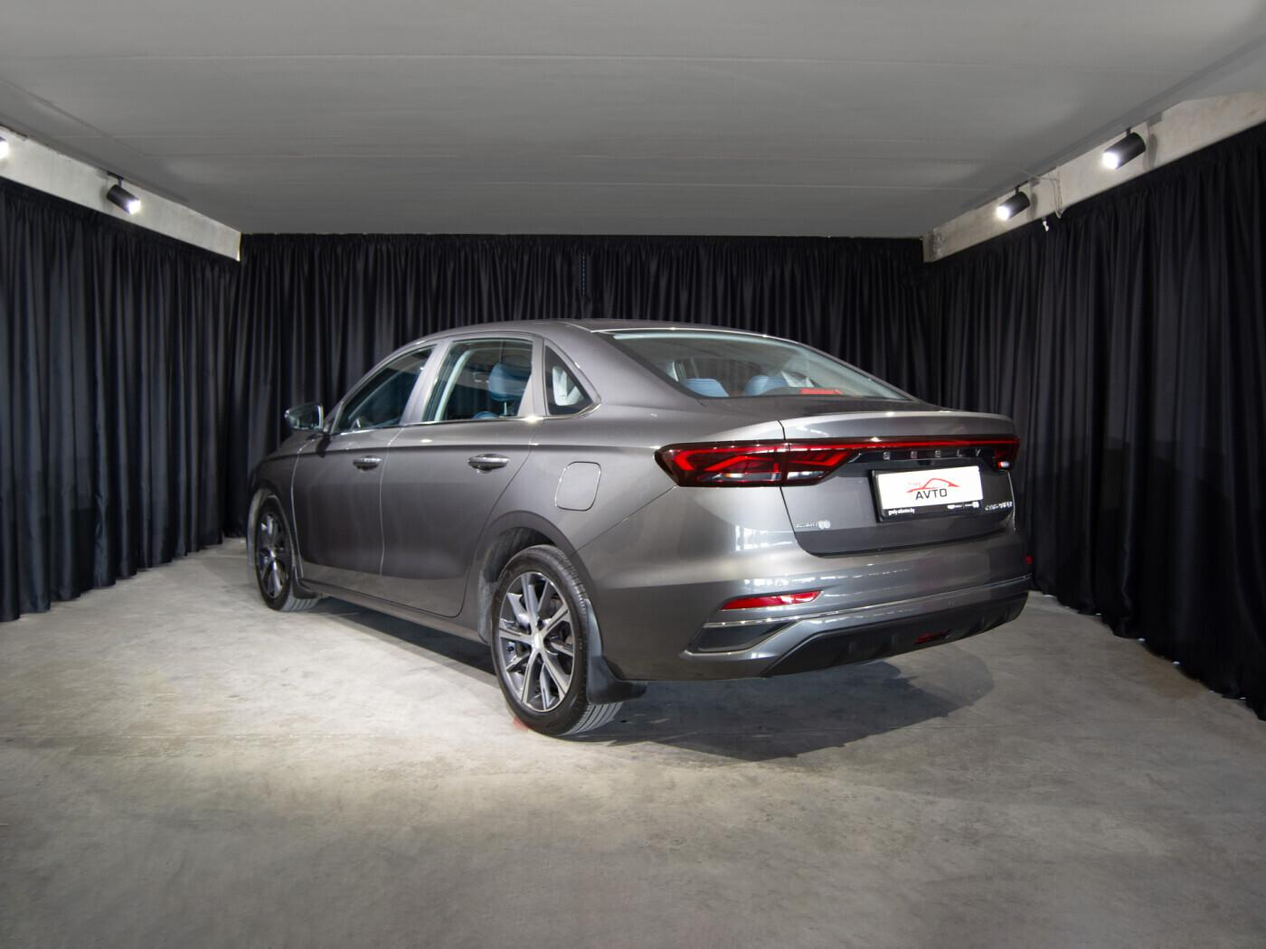Emgrand_2021: (244, 309, 1041, 748)
